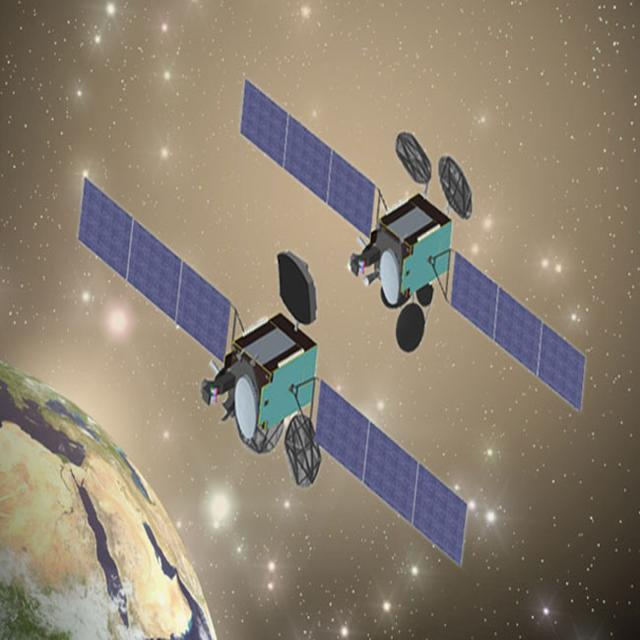sat: (74, 156, 472, 574), (238, 67, 591, 425)
